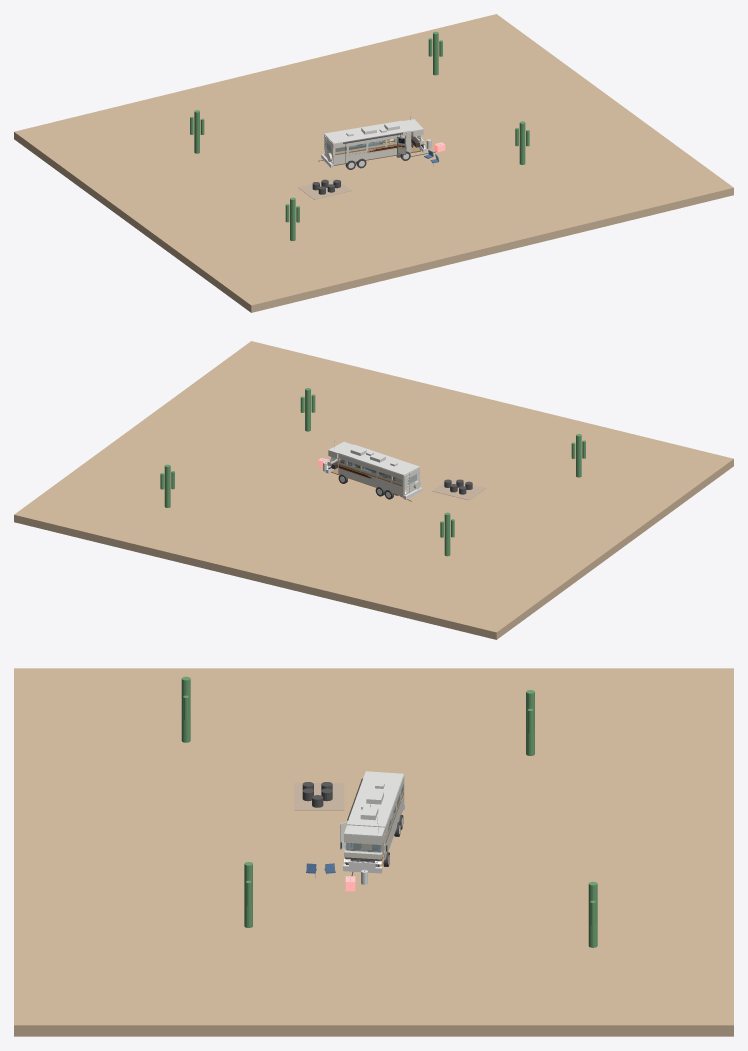
Rendered from desert_rv_cook_site.glb.
The picture shows the model from 3 angles, top to bottom: view 1: azimuth 30°, elevation 25°; view 2: azimuth 150°, elevation 25°; view 3: azimuth 270°, elevation 25°; orthographic projection. The views are drawn at different scales.
Parts seen in each view (by area): view 1: Desert_RV_CookSite_mesa_base, Desert_RV_CookSite_RV_roof, Desert_RV_CookSite_RV_wall_r_lower; view 2: Desert_RV_CookSite_mesa_base, Desert_RV_CookSite_RV_roof, Desert_RV_CookSite_RV_wall_l_lower; view 3: Desert_RV_CookSite_mesa_base, Desert_RV_CookSite_RV_roof, Desert_RV_CookSite_trench.
Boxes of the visible parts, x1=… form: Desert_RV_CookSite_mesa_base: x1=14, y1=14, x2=733, y2=312; Desert_RV_CookSite_RV_roof: x1=324, y1=120, x2=411, y2=143; Desert_RV_CookSite_RV_wall_r_lower: x1=333, y1=148, x2=396, y2=164; Desert_RV_CookSite_mesa_base: x1=14, y1=341, x2=733, y2=639; Desert_RV_CookSite_RV_roof: x1=338, y1=444, x2=419, y2=475; Desert_RV_CookSite_RV_wall_l_lower: x1=338, y1=465, x2=403, y2=496; Desert_RV_CookSite_mesa_base: x1=14, y1=668, x2=733, y2=1036; Desert_RV_CookSite_RV_roof: x1=347, y1=771, x2=404, y2=827; Desert_RV_CookSite_trench: x1=294, y1=783, x2=344, y2=810.
Size of what is drawn, in the model's own units: 54 by 5.2 by 46.
Materials: 39 (5 with a texture image).
